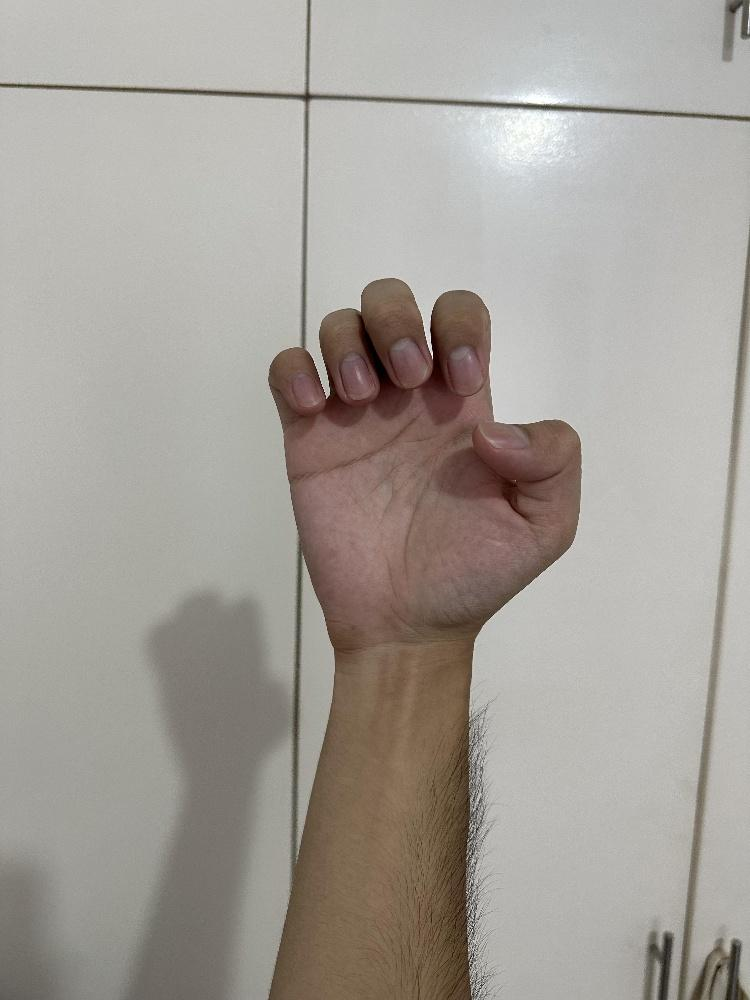e: (264, 273, 584, 656)
